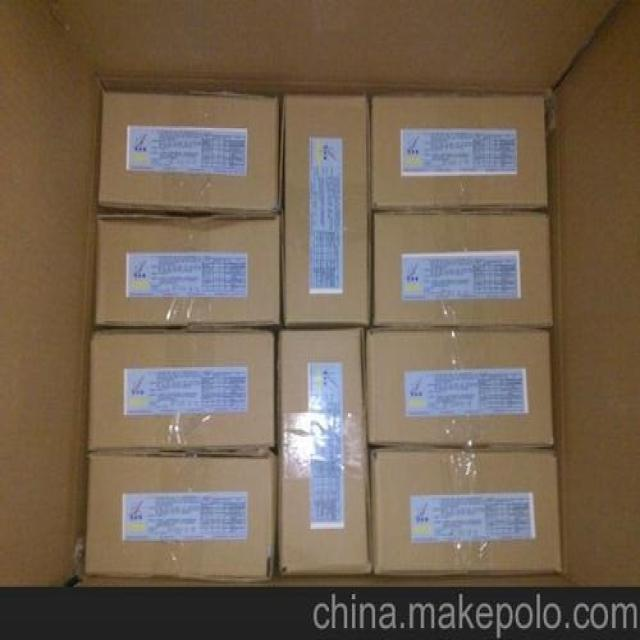box: (84, 451, 274, 581), (368, 448, 559, 575), (90, 329, 274, 453), (278, 329, 369, 573), (366, 329, 552, 447), (101, 92, 279, 213), (370, 210, 553, 327), (95, 212, 280, 326), (279, 97, 370, 325), (370, 95, 546, 210)
